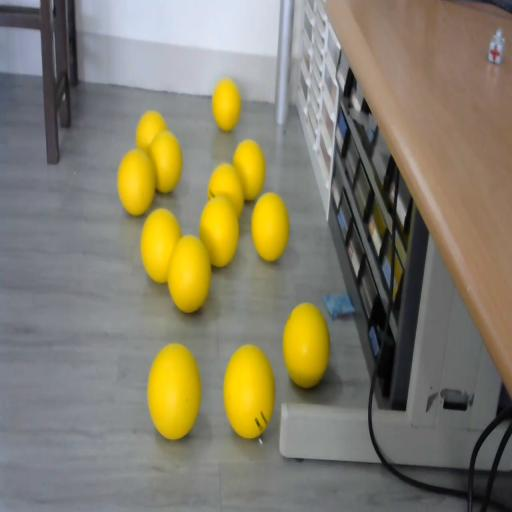FUEL: (146, 342, 201, 439), (222, 344, 275, 438), (282, 302, 329, 388), (140, 207, 182, 283), (198, 196, 240, 268), (250, 191, 290, 261), (117, 149, 155, 216), (149, 130, 183, 194), (233, 140, 266, 200), (212, 78, 241, 131)
